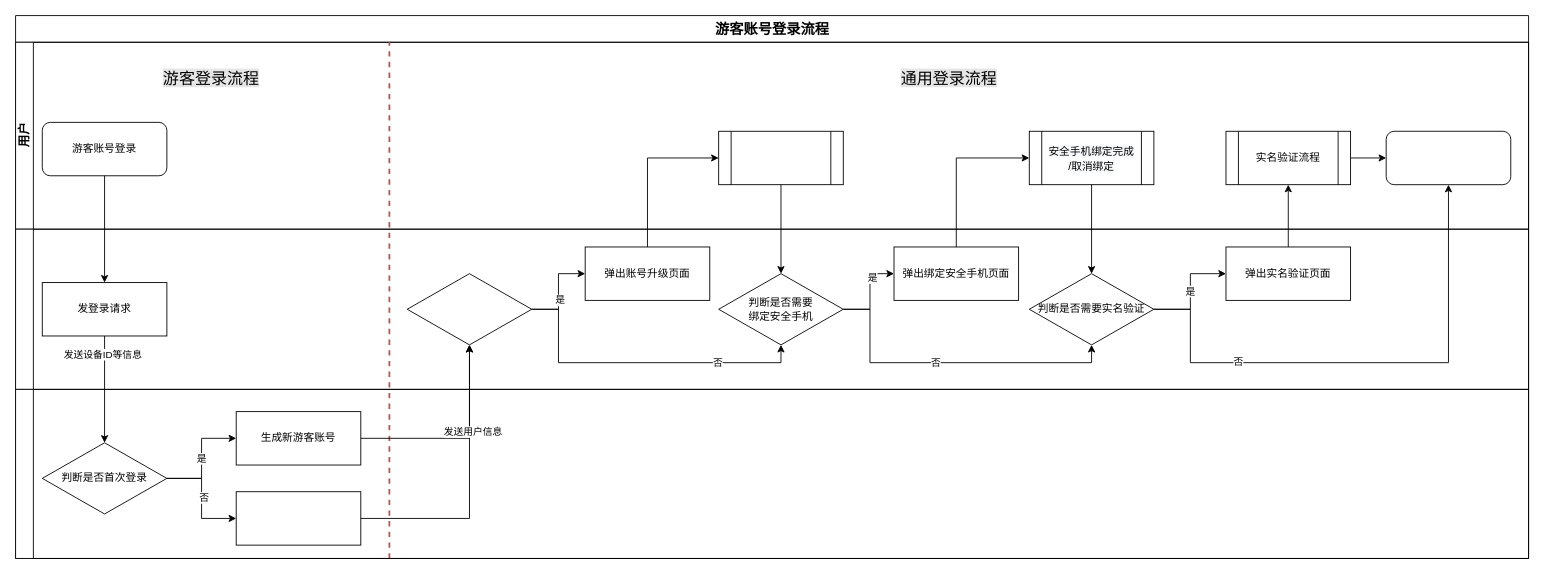
Some shapes in this 1544 by 576 pixel diagram are drawn without their labels. The box of each missing label's shape, as (x1, y1, x2, y2) in pixels:
判断是否需要游客升级: (406, 273, 532, 345)
服务器: (15, 388, 1529, 558)
查找历史游客信息: (235, 491, 361, 545)
游客升级完成/取消升级: (718, 130, 843, 185)
登录成功: (1385, 130, 1511, 185)
移动端: (15, 228, 1529, 389)
